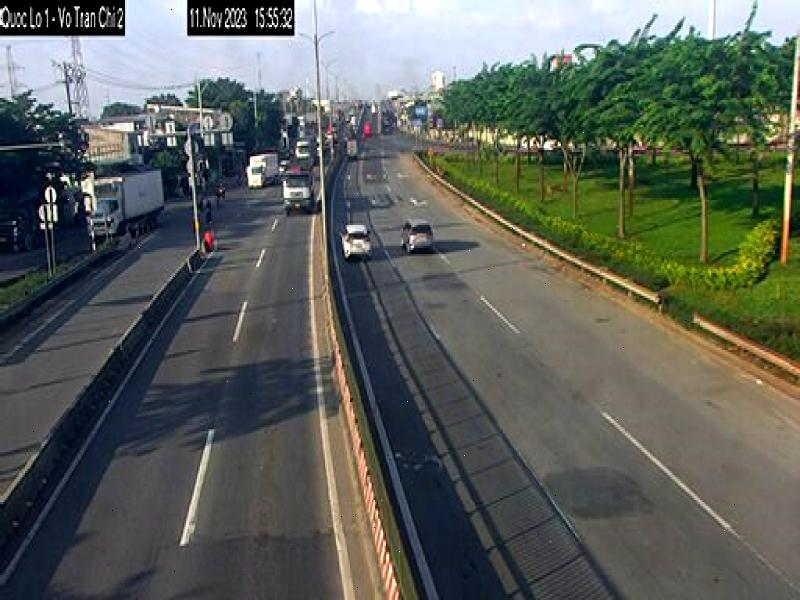truck: (89, 166, 168, 245)
